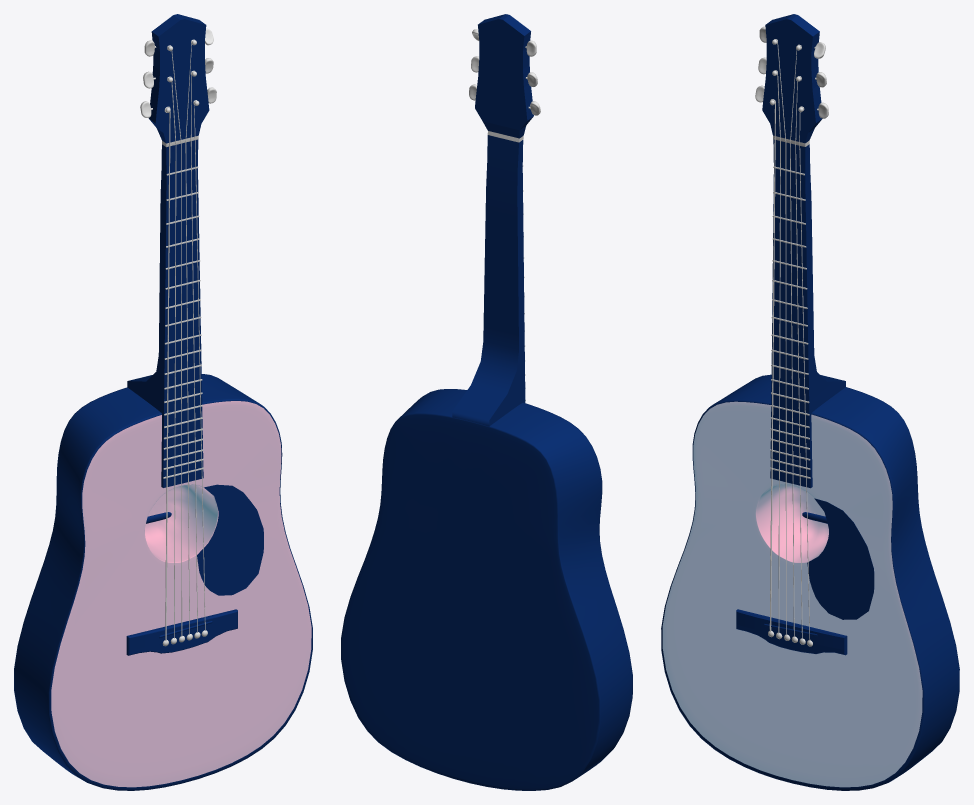
File: Guitar.fbx
3 renders of one model, left to right at view 1: azimuth 30°, elevation 25°; view 2: azimuth 150°, elevation 25°; view 3: azimuth 330°, elevation 25°, orthographic. The views are drawn at different scales.
Parts seen in each view (by area): view 1: bois_clair_guitar_005, bois_fonce_guitar_002, caisse_fonce_guitar_006, decor_guitar_001, cordes_guitar_003, metal_guitar_004; view 2: caisse_fonce_guitar_006, bois_fonce_guitar_002, cordes_guitar_003; view 3: bois_clair_guitar_005, bois_fonce_guitar_002, caisse_fonce_guitar_006, decor_guitar_001, cordes_guitar_003, metal_guitar_004.
Boxes of the visible parts, x1=… form: bois_clair_guitar_005: x1=51, y1=401, x2=311, y2=787; bois_fonce_guitar_002: x1=127, y1=14, x2=212, y2=637; caisse_fonce_guitar_006: x1=14, y1=14, x2=312, y2=790; decor_guitar_001: x1=126, y1=484, x2=263, y2=655; cordes_guitar_003: x1=140, y1=28, x2=216, y2=641; metal_guitar_004: x1=162, y1=39, x2=207, y2=646; caisse_fonce_guitar_006: x1=341, y1=14, x2=632, y2=790; bois_fonce_guitar_002: x1=452, y1=14, x2=533, y2=426; cordes_guitar_003: x1=469, y1=29, x2=540, y2=115; bois_clair_guitar_005: x1=662, y1=401, x2=922, y2=787; bois_fonce_guitar_002: x1=762, y1=14, x2=845, y2=636; caisse_fonce_guitar_006: x1=661, y1=14, x2=959, y2=790; decor_guitar_001: x1=736, y1=498, x2=874, y2=655; cordes_guitar_003: x1=755, y1=26, x2=828, y2=640; metal_guitar_004: x1=768, y1=39, x2=812, y2=646.
Bounding box in the file's own units: 188 × 518 × 49.22.
